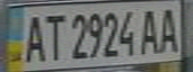2: (66, 9, 87, 61), (103, 7, 121, 57)
4: (118, 7, 139, 56)
9: (84, 8, 106, 60)
A: (21, 10, 48, 63), (154, 3, 181, 54), (136, 6, 163, 55)
T: (39, 10, 66, 62)
